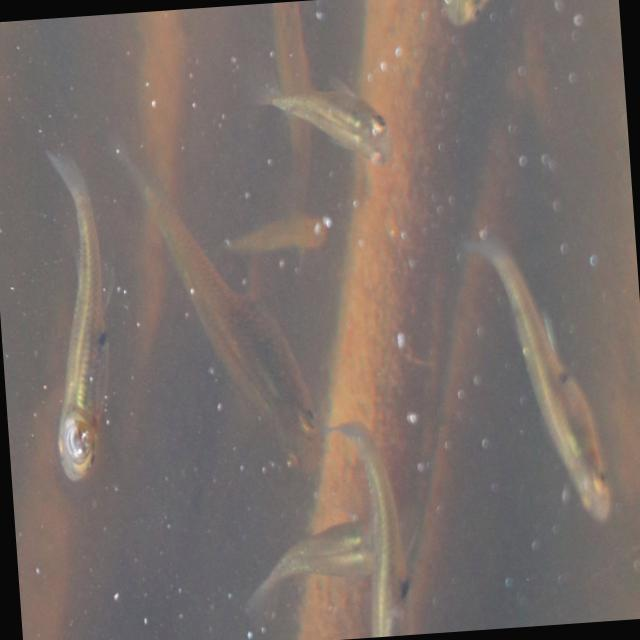Sivrisinek Baligi: (116, 143, 323, 487), (452, 210, 608, 536), (32, 147, 128, 490), (256, 64, 399, 185), (218, 511, 391, 604)
